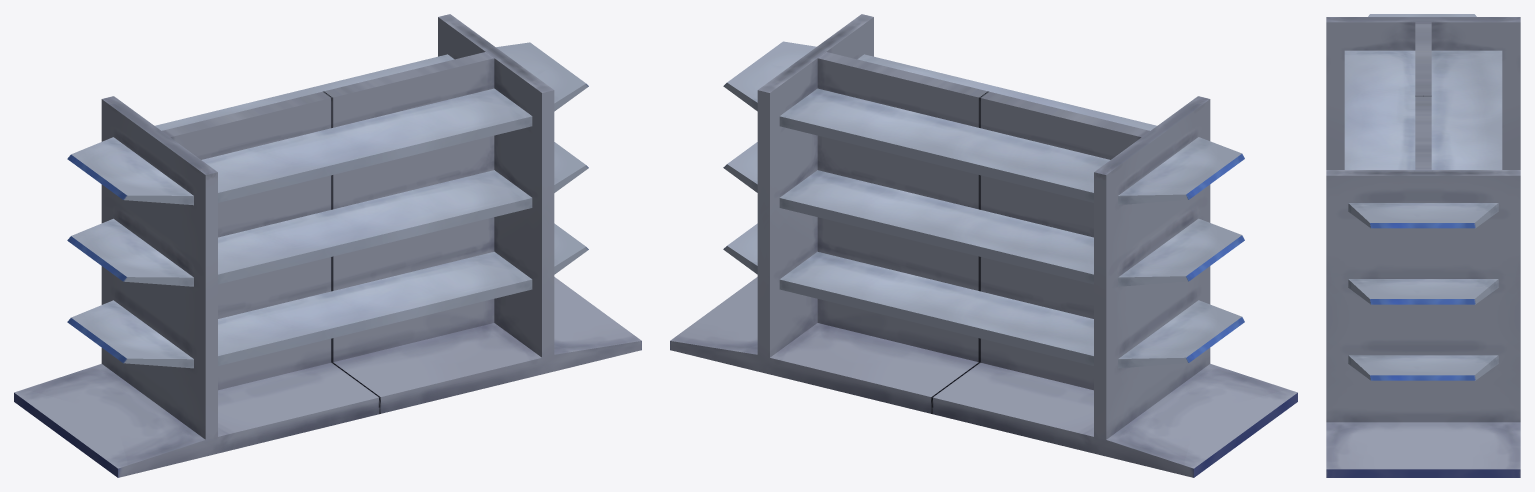
The model's file is genericshelf.gltf.
The picture shows the model from 3 angles, left to right: view 1: azimuth 30°, elevation 25°; view 2: azimuth 150°, elevation 25°; view 3: azimuth 270°, elevation 25°; orthographic projection. The views are drawn at different scales.
Parts seen in each view (by area): view 1: GenericShelf, GenericShelfSmall; view 2: GenericShelf, GenericShelfSmall; view 3: GenericShelf, GenericShelfSmall.
Boxes of the visible parts, box(x1,y1,x2,y2) form: GenericShelf: box(14, 14, 641, 477); GenericShelfSmall: box(67, 42, 588, 368); GenericShelf: box(670, 14, 1297, 477); GenericShelfSmall: box(723, 41, 1244, 368); GenericShelf: box(1326, 17, 1520, 477); GenericShelfSmall: box(1344, 14, 1502, 380).
Size of the model in its own units: 4.09 by 2.1 by 1.41.
Materials: 2 (2 with a texture image).
